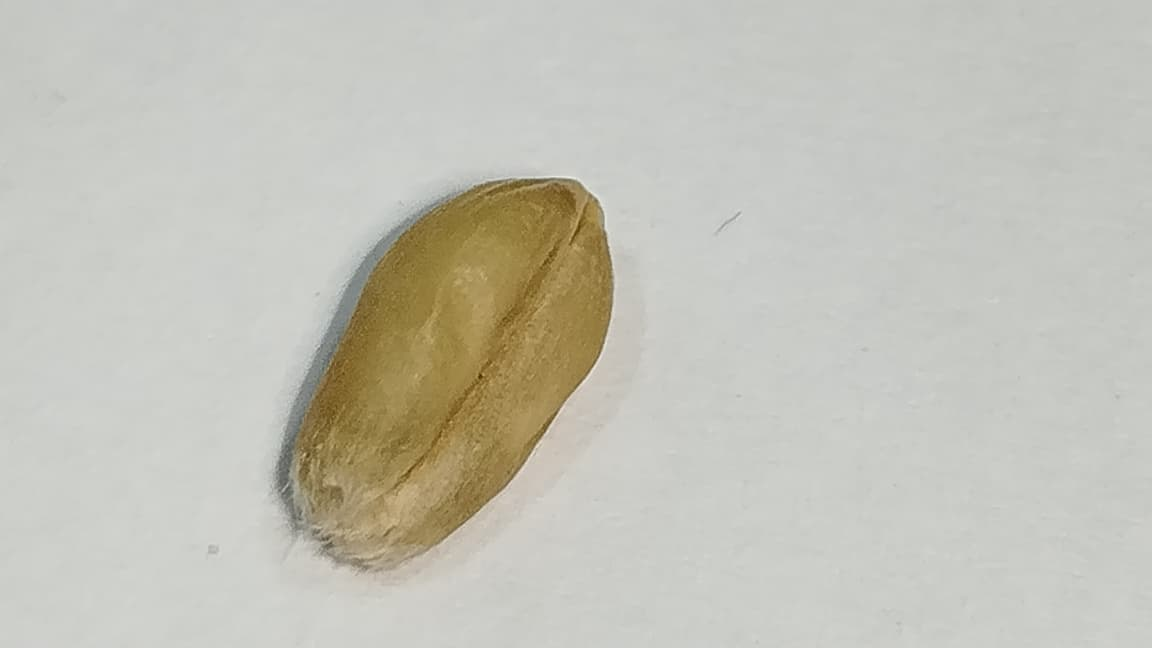healthy: (286, 178, 612, 566)
